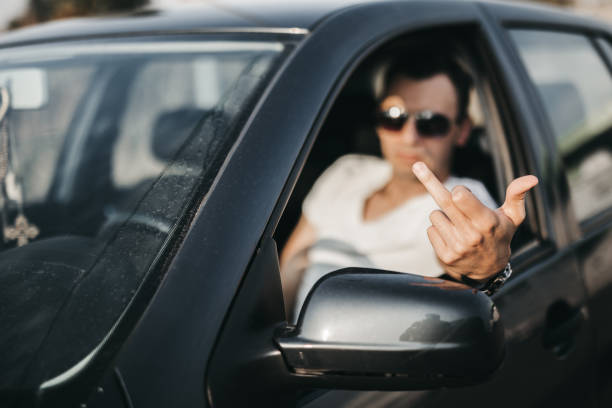insulting_gesture: (410, 159, 540, 282)
